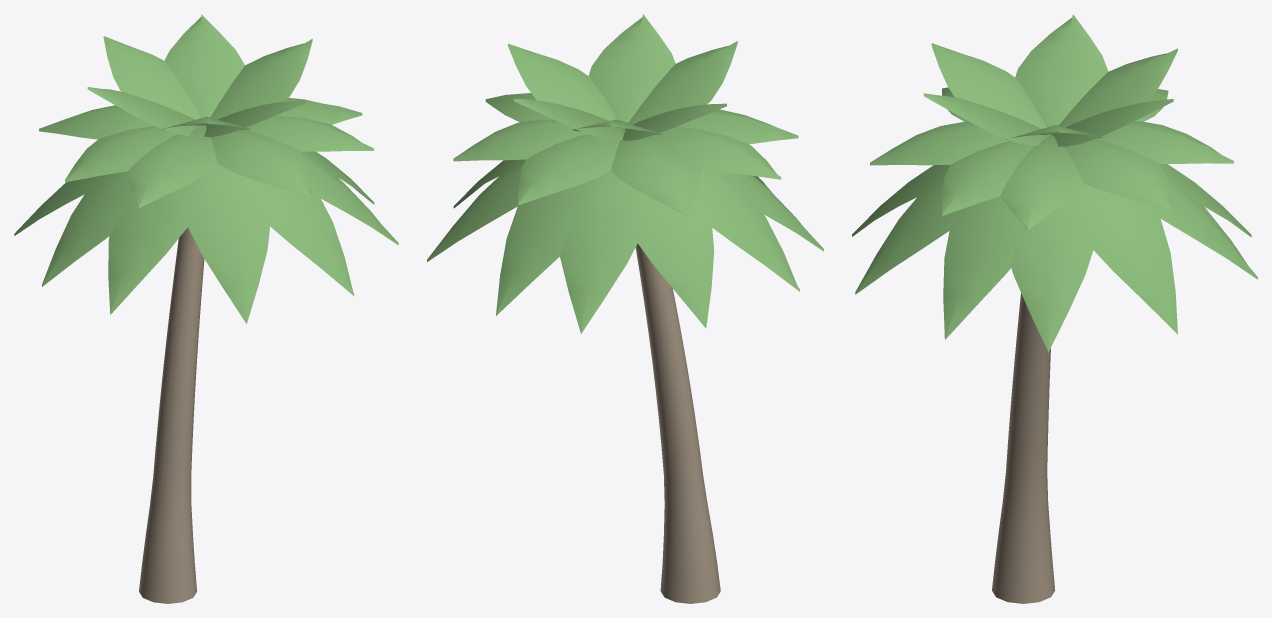
Rendered from Palm_Phoenix_A.fbx.
3 views of the same model, side by side, from view 1: azimuth 30°, elevation 25°; view 2: azimuth 150°, elevation 25°; view 3: azimuth 270°, elevation 25° (orthographic). The views are drawn at different scales.
Parts seen in each view (by area): view 1: Palm_Canopy, Palm_Trunk; view 2: Palm_Canopy, Palm_Trunk; view 3: Palm_Canopy, Palm_Trunk.
Part boxes in pixels (x1,y1,x2,y2): Palm_Canopy: [14, 14, 398, 323]; Palm_Trunk: [139, 130, 206, 603]; Palm_Canopy: [427, 14, 823, 333]; Palm_Trunk: [623, 133, 720, 603]; Palm_Canopy: [852, 14, 1257, 352]; Palm_Trunk: [992, 139, 1055, 603].
Size of the model in its own units: 8.2 by 11.79 by 7.94.
